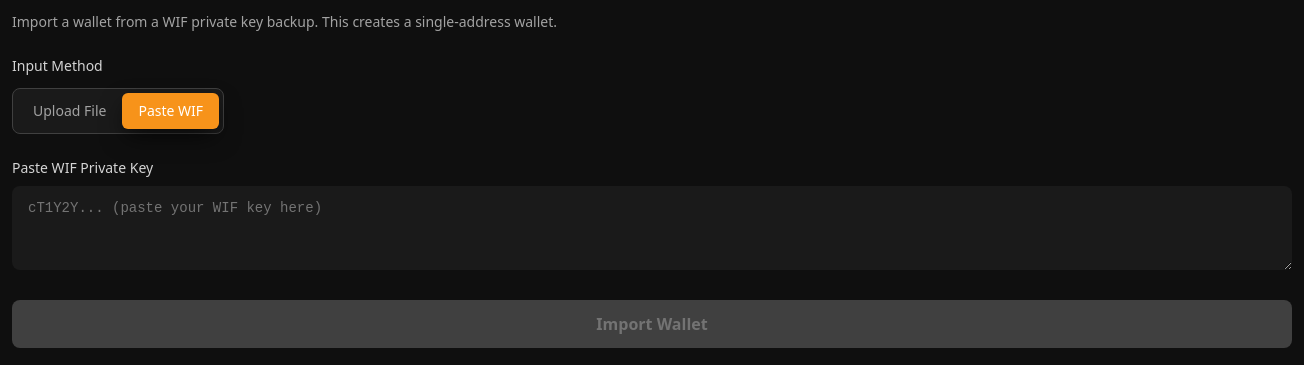
Test: ImportPrivateKey Component › Input Method Selection › switches to file upload method when clicking Upload File
Click the button "Upload File" at (70, 111), box top-left (17, 93), bottom-right (122, 129)
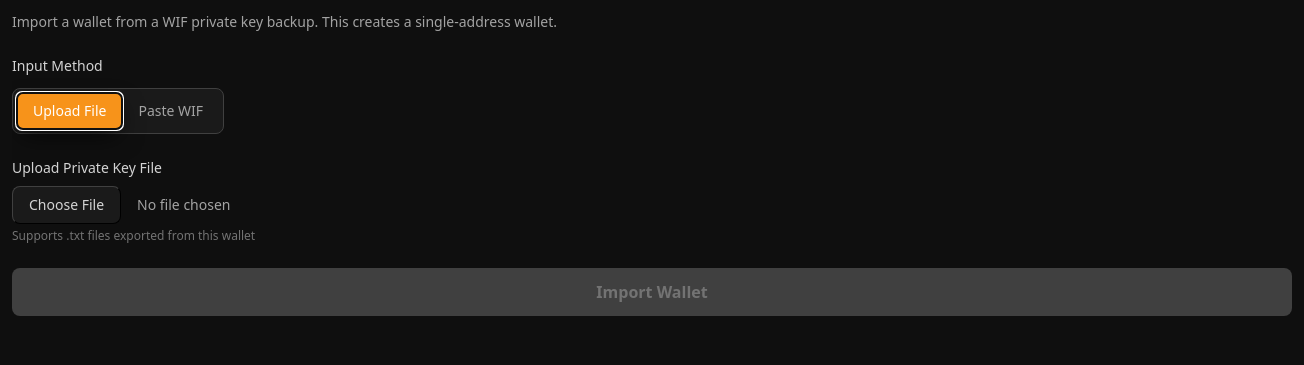
Expected: the text "Upload Private Key File" is shown, top-left (12, 158), bottom-right (162, 177)
